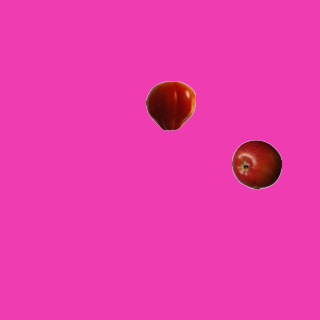Apple Braeburn: (231, 139, 281, 189)
Tomato 1: (145, 80, 195, 130)
